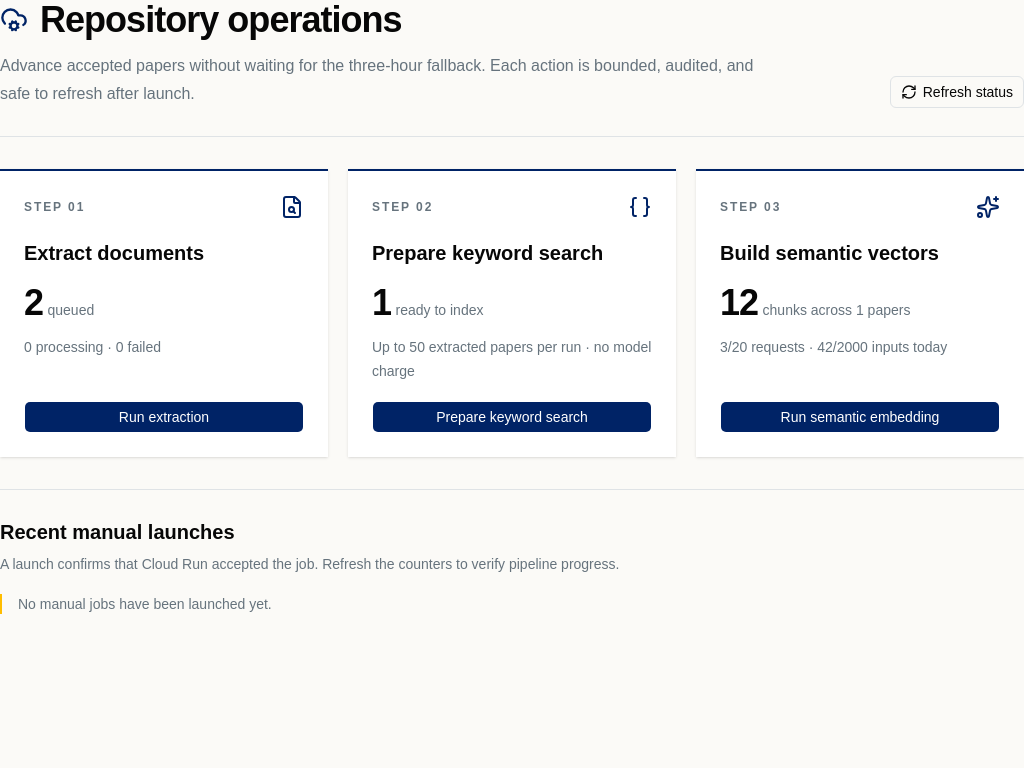
Test: repository operations › requires confirmation before semantic embedding
Click the button "Run semantic embedding" at (860, 417), box [720,401,1000,433]
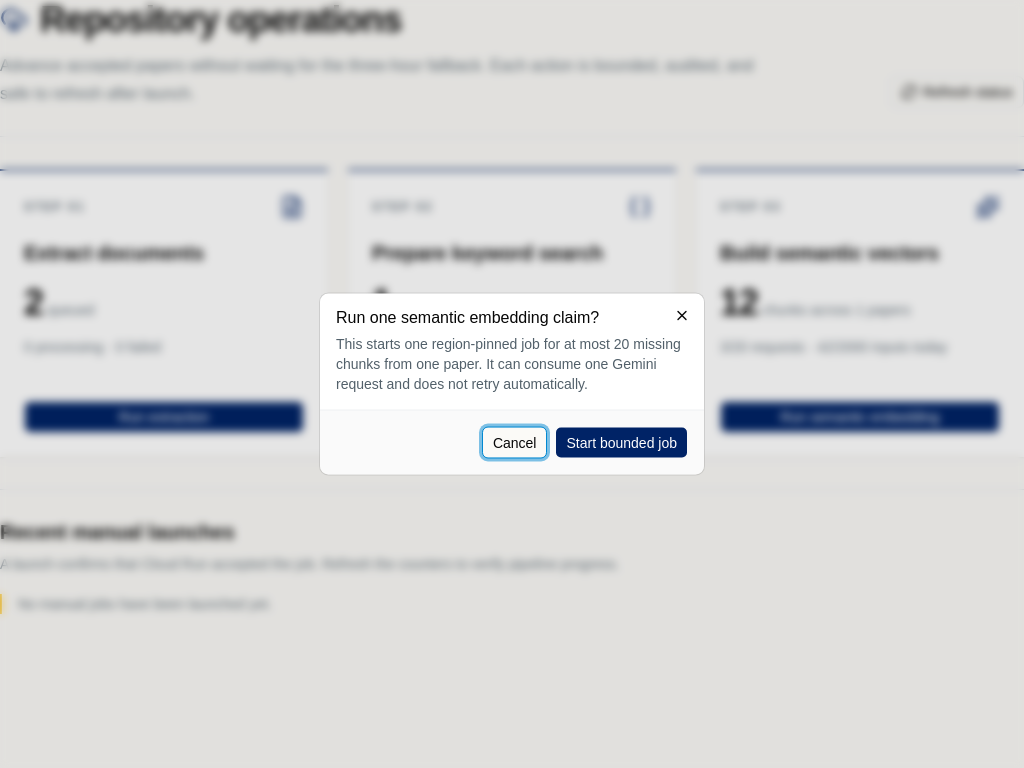
Check: the dialog is shown, box [320,294,704,474]
